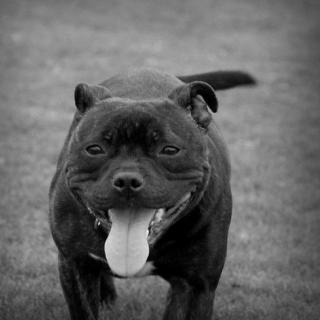dog: (60, 78, 225, 279)
nose: (108, 167, 146, 192)
